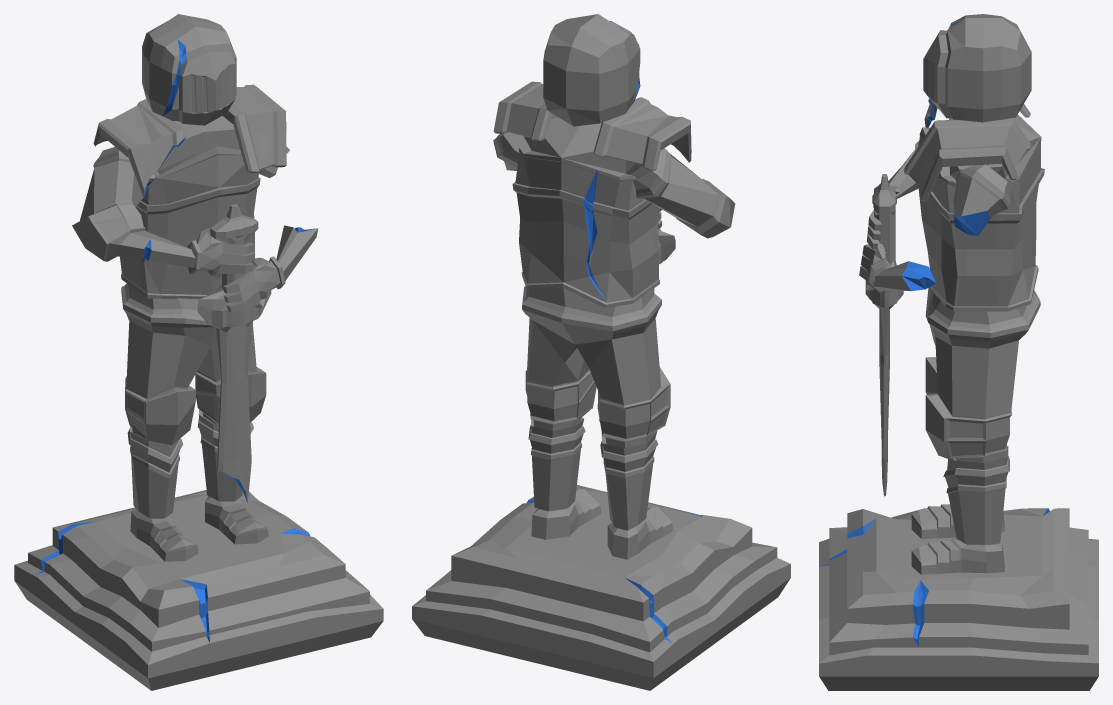
The model's file is KnightStatueBroken.fbx.
3 views of the same model, side by side, from view 1: azimuth 30°, elevation 25°; view 2: azimuth 150°, elevation 25°; view 3: azimuth 270°, elevation 25° (orthographic). The views are drawn at different scales.
Visible parts, largest first — view 1: KnightStatueBroken; view 2: KnightStatueBroken; view 3: KnightStatueBroken.
Boxes of the visible parts, <box> form: KnightStatueBroken: <box>14,14,383,690</box>; KnightStatueBroken: <box>412,14,790,690</box>; KnightStatueBroken: <box>819,14,1098,690</box>.
Bounding box in the file's own units: 96.05 × 227 × 93.17.
Materials: 1 (1 with a texture image).
